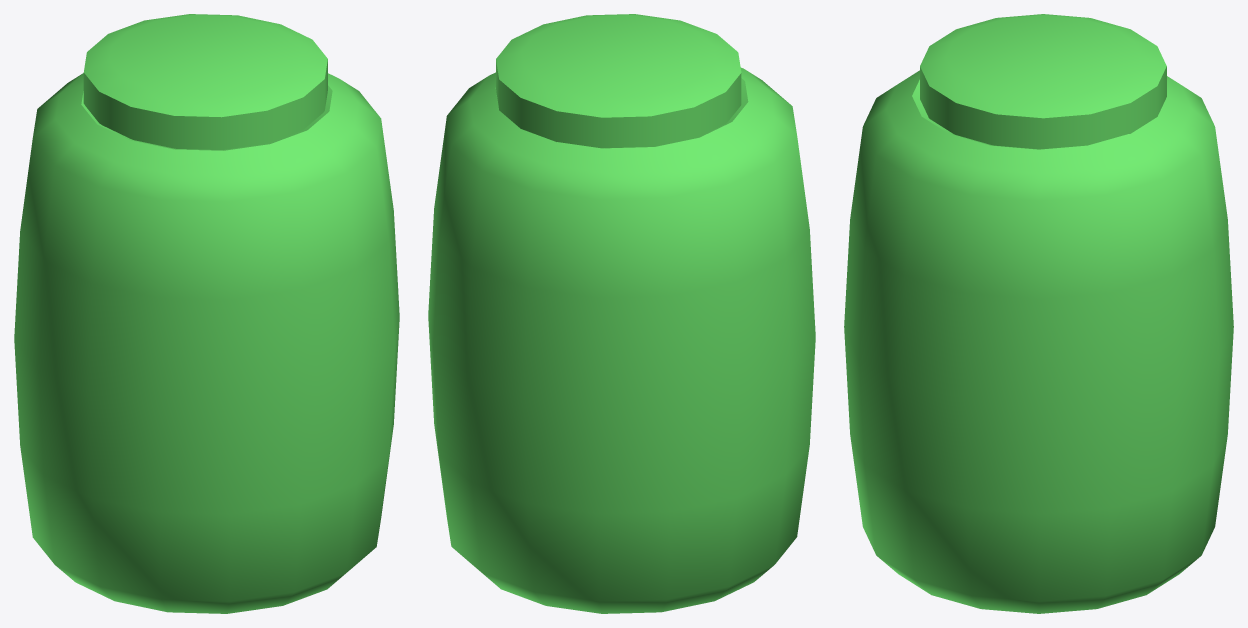
The model's file is S_Jars_1.fbx.
The picture shows the model from 3 angles, left to right: view 1: azimuth 30°, elevation 25°; view 2: azimuth 150°, elevation 25°; view 3: azimuth 270°, elevation 25°; orthographic projection.
Visible parts, largest first — view 1: Bocal_1_low, Bocal_1_low.001; view 2: Bocal_1_low, Bocal_1_low.001; view 3: Bocal_1_low, Bocal_1_low.001.
Boxes of the visible parts, x1,y1,x2,y2 form: Bocal_1_low: (14,73,399,613); Bocal_1_low.001: (83,14,327,149); Bocal_1_low: (428,67,815,613); Bocal_1_low.001: (496,14,741,148); Bocal_1_low: (844,70,1233,613); Bocal_1_low.001: (920,14,1166,149).
Bounding box in the file's own units: 0.1388 × 0.1967 × 0.1388.
